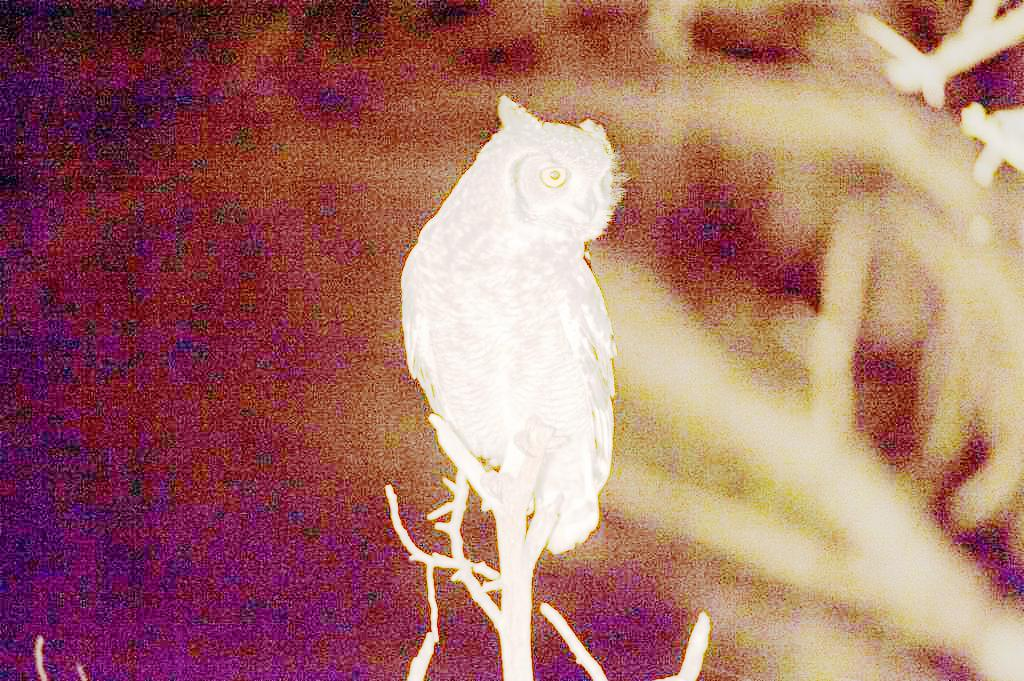Owl: (400, 97, 621, 551)
